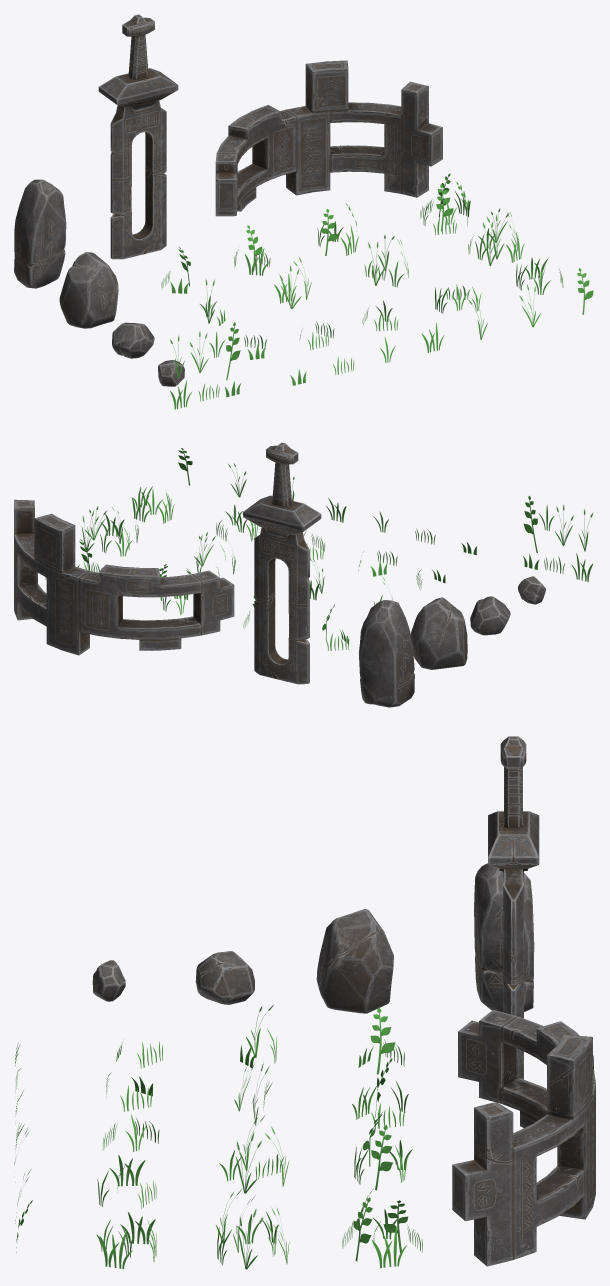
The model's file is ancient_ruins.glb.
3 views of the same model, one above another, from view 1: azimuth 30°, elevation 25°; view 2: azimuth 150°, elevation 25°; view 3: azimuth 270°, elevation 25° (orthographic). The views are drawn at different scales.
Visible parts, largest first — view 1: AncientRuins_Shell, AncientRuins_Sword, AncientRuins_Rock4_M_AncientRuins_Rocks_0, AncientRuins_Rock3_M_AncientRuins_Rocks_0, AncientRuins_Rock2_M_AncientRuins_Rocks_0, AncientRuins_PlantsPlane, AncientRuins_Plants20, AncientRuins_Plants16, AncientRuins_Plants19, AncientRuins_Rock1_M_AncientRuins_Rocks_0, AncientRuins_Plants15, AncientRuins_Plants18; view 2: AncientRuins_Shell, AncientRuins_Sword, AncientRuins_Rock4_M_AncientRuins_Rocks_0, AncientRuins_Rock3_M_AncientRuins_Rocks_0, AncientRuins_Rock2_M_AncientRuins_Rocks_0, AncientRuins_PlantsPlane, AncientRuins_Plants16, AncientRuins_Plants12, AncientRuins_Rock1_M_AncientRuins_Rocks_0, AncientRuins_Plants11; view 3: AncientRuins_Shell, AncientRuins_Sword, AncientRuins_Rock3_M_AncientRuins_Rocks_0, AncientRuins_Rock4_M_AncientRuins_Rocks_0, AncientRuins_Rock2_M_AncientRuins_Rocks_0, AncientRuins_Plants20, AncientRuins_Plants16, AncientRuins_Plants19, AncientRuins_Plants12, AncientRuins_Rock1_M_AncientRuins_Rocks_0, AncientRuins_Plants15, AncientRuins_Plants18 (+2 smaller).
Boxes of the visible parts, x1=… form: AncientRuins_Shell: x1=215, y1=60, x2=442, y2=216; AncientRuins_Sword: x1=98, y1=14, x2=178, y2=259; AncientRuins_Rock4_M_AncientRuins_Rocks_0: x1=14, y1=179, x2=66, y2=288; AncientRuins_Rock3_M_AncientRuins_Rocks_0: x1=59, y1=252, x2=118, y2=328; AncientRuins_Rock2_M_AncientRuins_Rocks_0: x1=112, y1=322, x2=154, y2=358; AncientRuins_PlantsPlane: x1=170, y1=322, x2=240, y2=409; AncientRuins_Plants20: x1=420, y1=173, x2=470, y2=235; AncientRuins_Plants16: x1=468, y1=208, x2=524, y2=266; AncientRuins_Plants19: x1=317, y1=203, x2=358, y2=255; AncientRuins_Rock1_M_AncientRuins_Rocks_0: x1=158, y1=360, x2=184, y2=386; AncientRuins_Plants15: x1=364, y1=235, x2=408, y2=287; AncientRuins_Plants18: x1=234, y1=225, x2=270, y2=275; AncientRuins_Shell: x1=14, y1=499, x2=234, y2=655; AncientRuins_Sword: x1=243, y1=442, x2=321, y2=684; AncientRuins_Rock4_M_AncientRuins_Rocks_0: x1=359, y1=600, x2=414, y2=707; AncientRuins_Rock3_M_AncientRuins_Rocks_0: x1=411, y1=597, x2=467, y2=669; AncientRuins_Rock2_M_AncientRuins_Rocks_0: x1=470, y1=596, x2=510, y2=635; AncientRuins_PlantsPlane: x1=523, y1=495, x2=593, y2=581; AncientRuins_Plants16: x1=81, y1=506, x2=138, y2=556; AncientRuins_Plants12: x1=132, y1=486, x2=174, y2=523; AncientRuins_Rock1_M_AncientRuins_Rocks_0: x1=518, y1=576, x2=545, y2=604; AncientRuins_Plants11: x1=216, y1=504, x2=257, y2=541; AncientRuins_Shell: x1=452, y1=1010, x2=595, y2=1266; AncientRuins_Sword: x1=488, y1=736, x2=539, y2=1079; AncientRuins_Rock3_M_AncientRuins_Rocks_0: x1=316, y1=909, x2=393, y2=1013; AncientRuins_Rock4_M_AncientRuins_Rocks_0: x1=474, y1=863, x2=534, y2=1012; AncientRuins_Rock2_M_AncientRuins_Rocks_0: x1=195, y1=951, x2=254, y2=1004; AncientRuins_Plants20: x1=342, y1=1188, x2=422, y2=1268; AncientRuins_Plants16: x1=216, y1=1189, x2=289, y2=1269; AncientRuins_Plants19: x1=354, y1=1112, x2=412, y2=1190; AncientRuins_Plants12: x1=96, y1=1212, x2=156, y2=1269; AncientRuins_Rock1_M_AncientRuins_Rocks_0: x1=92, y1=960, x2=125, y2=1001; AncientRuins_Plants15: x1=219, y1=1116, x2=289, y2=1193; AncientRuins_Plants18: x1=352, y1=1058, x2=408, y2=1128.
Bounding box in the file's own units: 11.35 × 5.88 × 9.27.
Materials: 3 (3 with a texture image).
